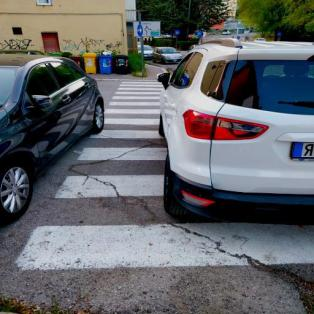Paso de Cebra: (11, 176, 313, 278)
